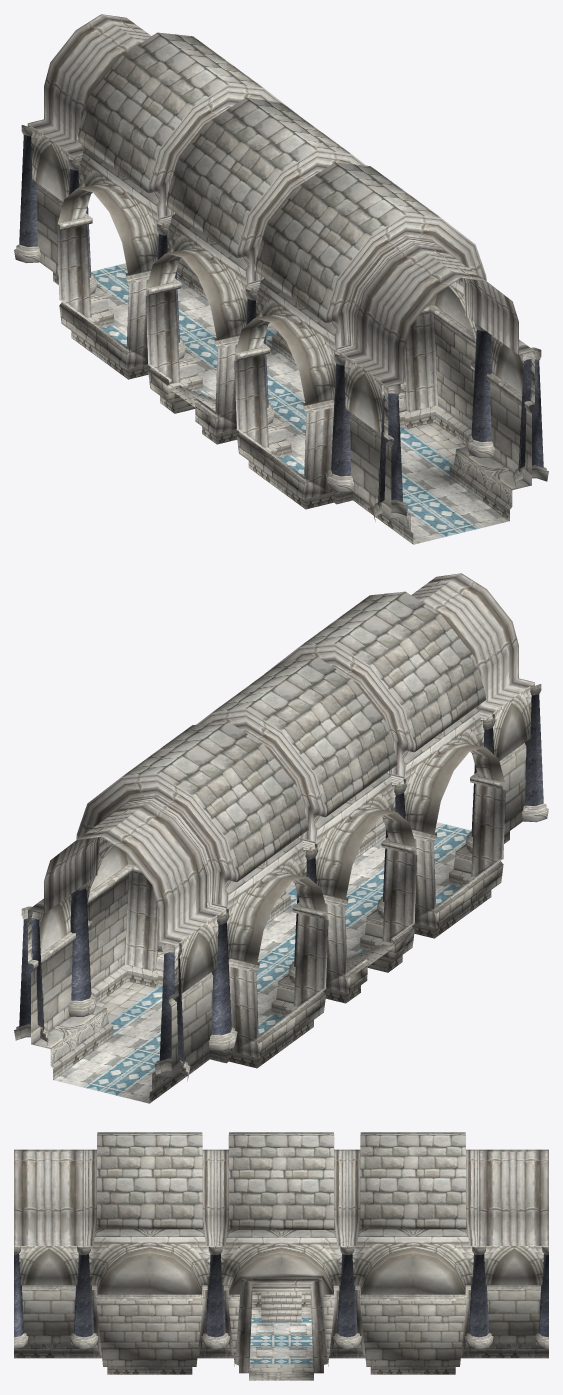
Rendered from stormwind_165.fbx.
3 renders of one model, top to bottom at view 1: azimuth 30°, elevation 25°; view 2: azimuth 150°, elevation 25°; view 3: azimuth 270°, elevation 25°, orthographic. The views are drawn at different scales.
Parts seen in each view (by area): view 1: stormwind_165_166, stormwind_165_165, stormwind_165_168, stormwind_165_167, stormwind_165_164, stormwind_165_169, stormwind_165_47; view 2: stormwind_165_166, stormwind_165_165, stormwind_165_168, stormwind_165_167, stormwind_165_164, stormwind_165_169, stormwind_165_47; view 3: stormwind_165_166, stormwind_165_165, stormwind_165_168, stormwind_165_164, stormwind_165_169, stormwind_165_167, stormwind_165_47.
Boxes of the visible parts, box(x1,y1,x2,y2) form: stormwind_165_166: box(14, 14, 548, 544); stormwind_165_165: box(59, 32, 440, 499); stormwind_165_168: box(27, 123, 534, 439); stormwind_165_167: box(91, 263, 509, 544); stormwind_165_164: box(36, 187, 531, 519); stormwind_165_169: box(19, 135, 543, 507); stormwind_165_47: box(267, 322, 466, 463); stormwind_165_166: box(14, 573, 548, 1103); stormwind_165_165: box(122, 591, 503, 1058); stormwind_165_168: box(28, 682, 534, 998); stormwind_165_167: box(53, 822, 471, 1103); stormwind_165_164: box(31, 747, 526, 1078); stormwind_165_169: box(19, 694, 543, 1066); stormwind_165_47: box(95, 881, 294, 1022); stormwind_165_166: box(14, 1138, 548, 1378); stormwind_165_165: box(96, 1132, 466, 1294); stormwind_165_168: box(14, 1237, 548, 1294); stormwind_165_164: box(22, 1290, 540, 1380); stormwind_165_169: box(14, 1254, 548, 1337); stormwind_165_167: box(249, 1317, 313, 1364); stormwind_165_47: box(249, 1307, 313, 1373).
Size of the model in its own units: 15.98 by 20.27 by 47.69.
